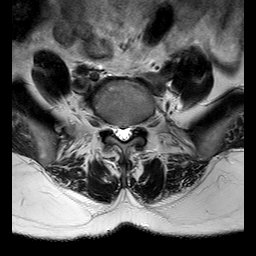CCS_severe_stenosis: (120, 119, 127, 148)
LFS_stenosis: (134, 114, 142, 137)
LLS_normal: (127, 118, 134, 143)
RFS_stenosis: (104, 113, 113, 138)
RLS_normal: (113, 118, 120, 145)
